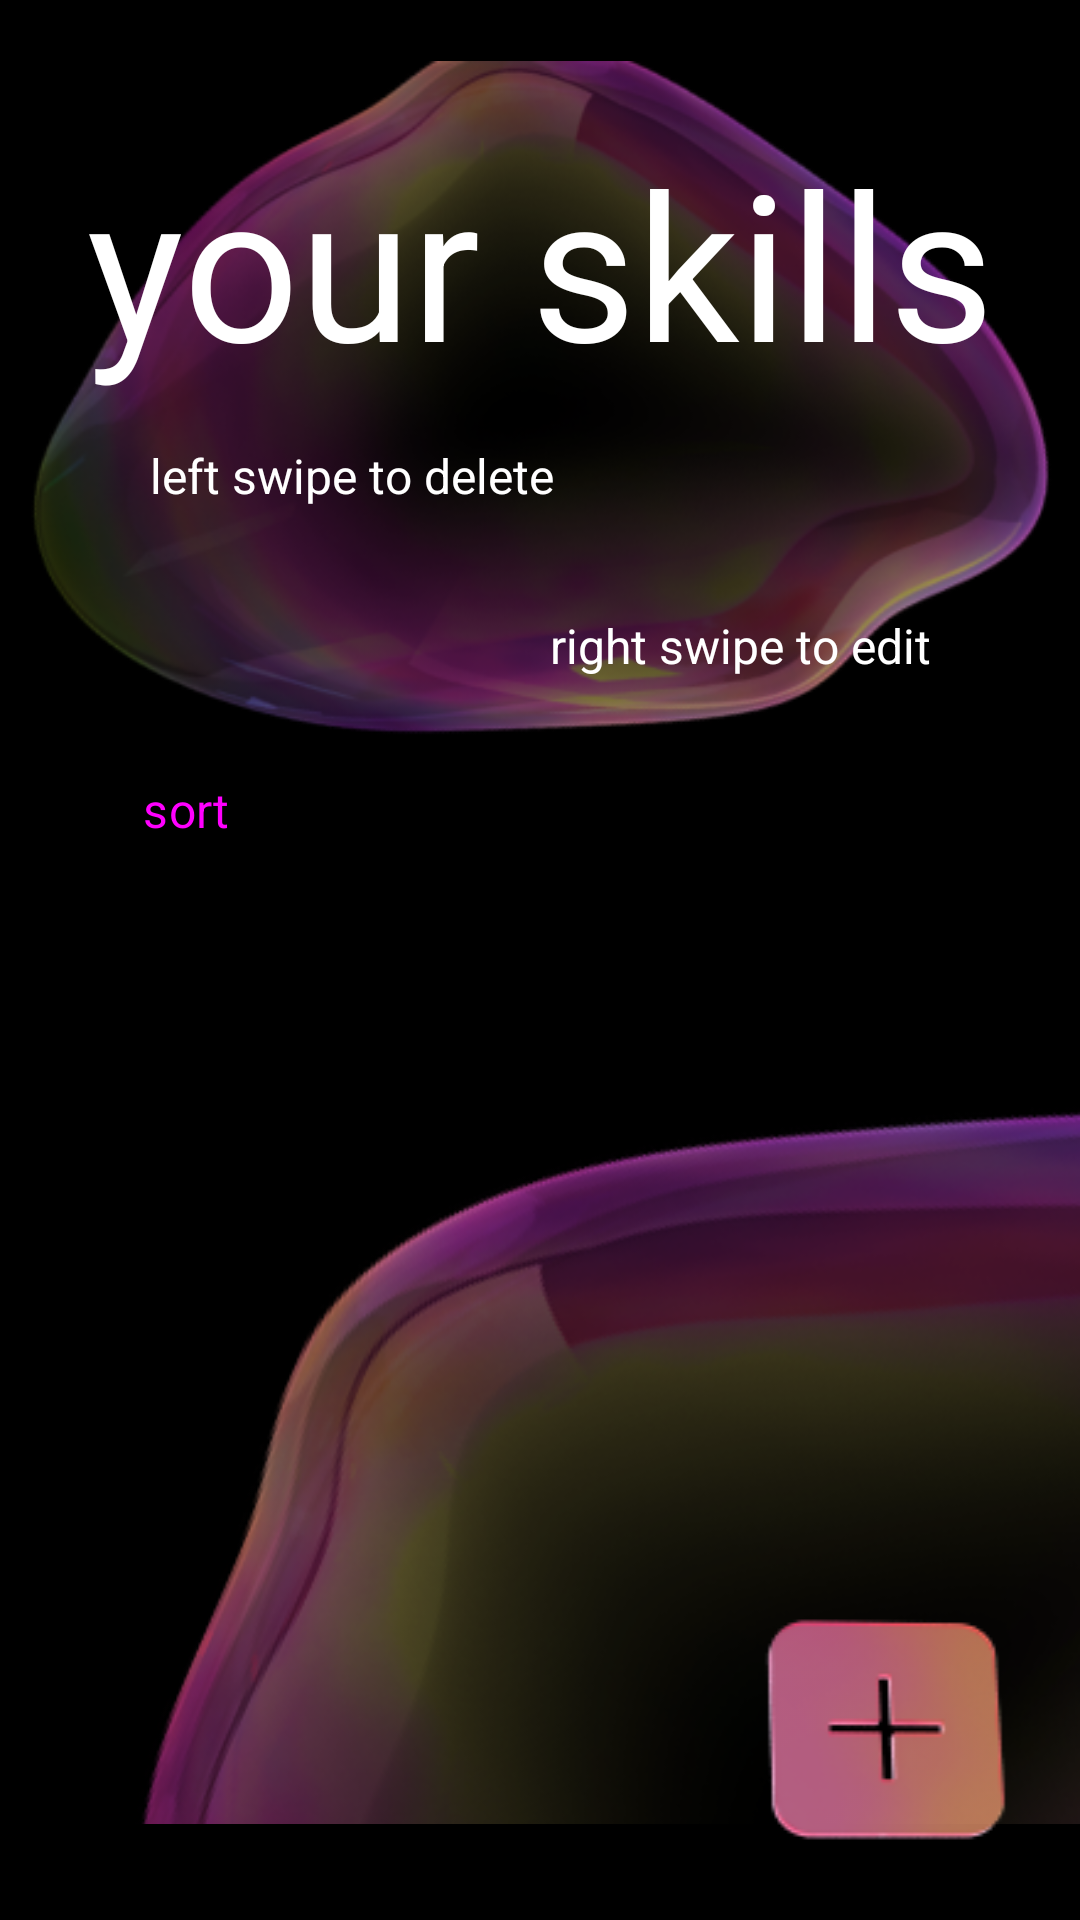

Named icons in this screenshot (1080*1920) and their bounding boxes, Rect(x1, y1, x2, y2):
New Skill: Rect(767, 1619, 1006, 1840)
